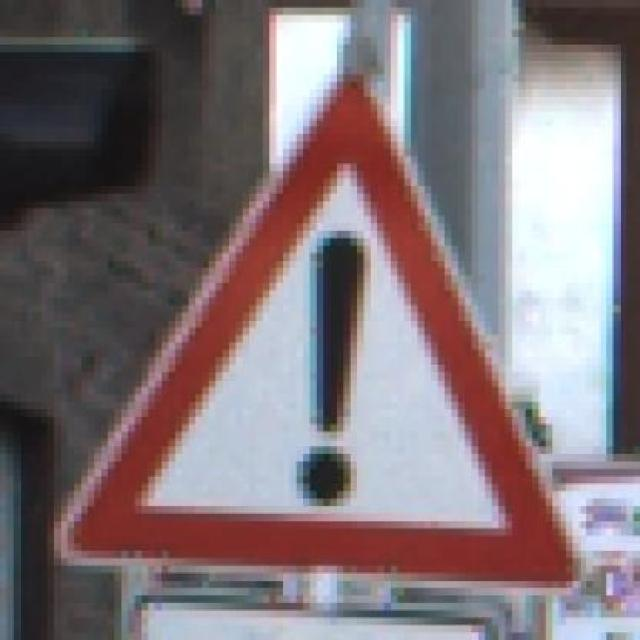Attention Please-: (38, 59, 604, 596)
